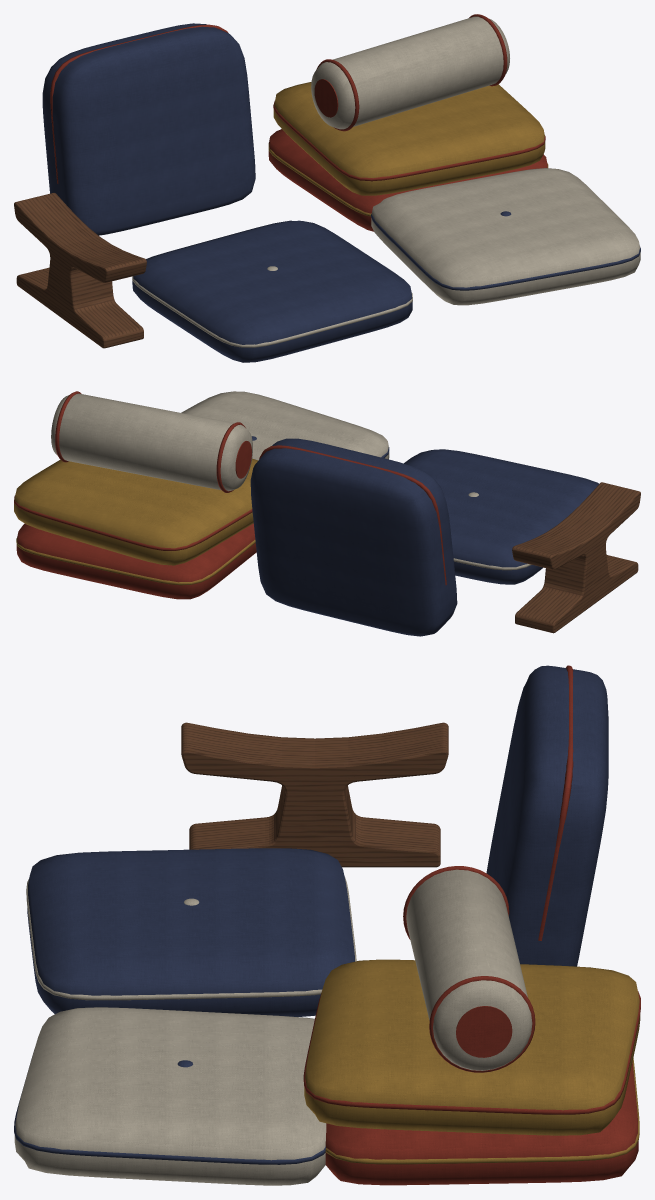
File: floor_cushion_set.glb
3 views of the same model, one above another, from view 1: azimuth 30°, elevation 25°; view 2: azimuth 150°, elevation 25°; view 3: azimuth 270°, elevation 25° (orthographic). The views are drawn at different scales.
Visible parts, largest first — view 1: part_bolster_1_LOD0, part_cushion_1_LOD0, part_cushion_2_LOD0, part_cushion_4_LOD0, part_bolster_2_LOD0, part_armrest_LOD0, part_cushion_3_LOD0; view 2: part_bolster_1_LOD0, part_cushion_4_LOD0, part_cushion_1_LOD0, part_bolster_2_LOD0, part_armrest_LOD0, part_cushion_3_LOD0, part_cushion_2_LOD0; view 3: part_cushion_1_LOD0, part_cushion_2_LOD0, part_cushion_4_LOD0, part_bolster_1_LOD0, part_armrest_LOD0, part_bolster_2_LOD0, part_cushion_3_LOD0.
Part boxes in pixels (x1,y1,x2,y2): part_bolster_1_LOD0: [42, 23, 255, 235]; part_cushion_1_LOD0: [132, 220, 412, 362]; part_cushion_2_LOD0: [371, 168, 640, 305]; part_cushion_4_LOD0: [273, 82, 545, 195]; part_bolster_2_LOD0: [311, 14, 509, 131]; part_armrest_LOD0: [14, 193, 146, 348]; part_cushion_3_LOD0: [268, 129, 548, 231]; part_bolster_1_LOD0: [250, 438, 457, 636]; part_cushion_4_LOD0: [14, 458, 258, 565]; part_cushion_1_LOD0: [404, 449, 598, 584]; part_bolster_2_LOD0: [51, 391, 252, 492]; part_armrest_LOD0: [512, 482, 640, 633]; part_cushion_3_LOD0: [16, 523, 256, 599]; part_cushion_2_LOD0: [181, 391, 389, 460]; part_cushion_1_LOD0: [26, 848, 356, 1016]; part_cushion_2_LOD0: [14, 1007, 326, 1185]; part_cushion_4_LOD0: [303, 959, 640, 1135]; part_bolster_1_LOD0: [486, 665, 608, 966]; part_armrest_LOD0: [181, 722, 448, 867]; part_bolster_2_LOD0: [403, 866, 535, 1072]; part_cushion_3_LOD0: [325, 1057, 639, 1185].
Size of what is drawn, in the model's own units: 1.36 by 0.4459 by 1.02.
Materials: 5 (5 with a texture image).
